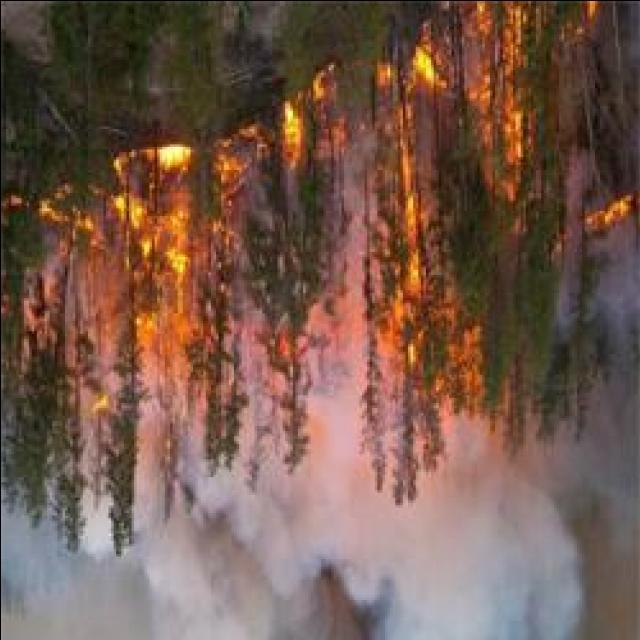fire: (111, 187, 188, 291), (401, 190, 422, 304), (273, 94, 301, 149), (151, 140, 196, 172), (410, 45, 440, 85)
smoke: (298, 509, 600, 640), (0, 557, 328, 640), (182, 470, 340, 636), (592, 238, 640, 343)
